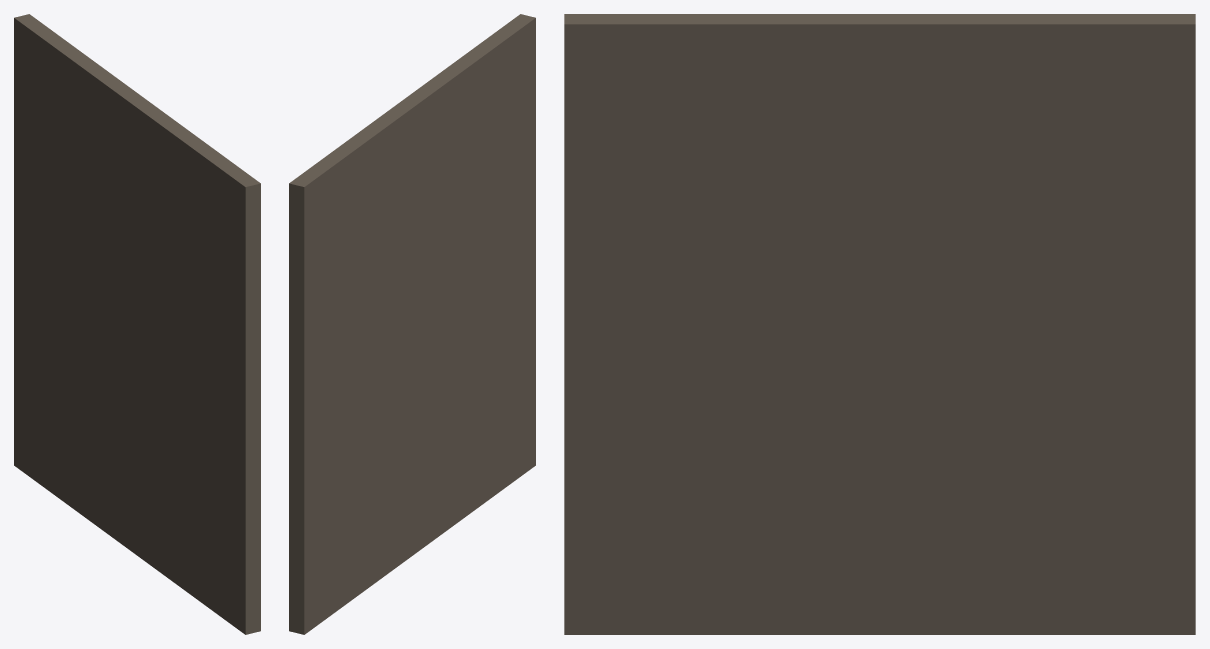
The model's file is CentralWall.fbx.
3 renders of one model, left to right at view 1: azimuth 30°, elevation 25°; view 2: azimuth 150°, elevation 25°; view 3: azimuth 270°, elevation 25°, orthographic. The views are drawn at different scales.
Visible parts, largest first — view 1: WallCenter; view 2: WallCenter; view 3: WallCenter.
Part boxes in pixels (bbox=[...]): WallCenter: bbox=[14, 14, 260, 634]; WallCenter: bbox=[289, 14, 535, 634]; WallCenter: bbox=[564, 14, 1195, 634].
Bounding box in the file's own units: 0.7983 × 22.2 × 20.8.
